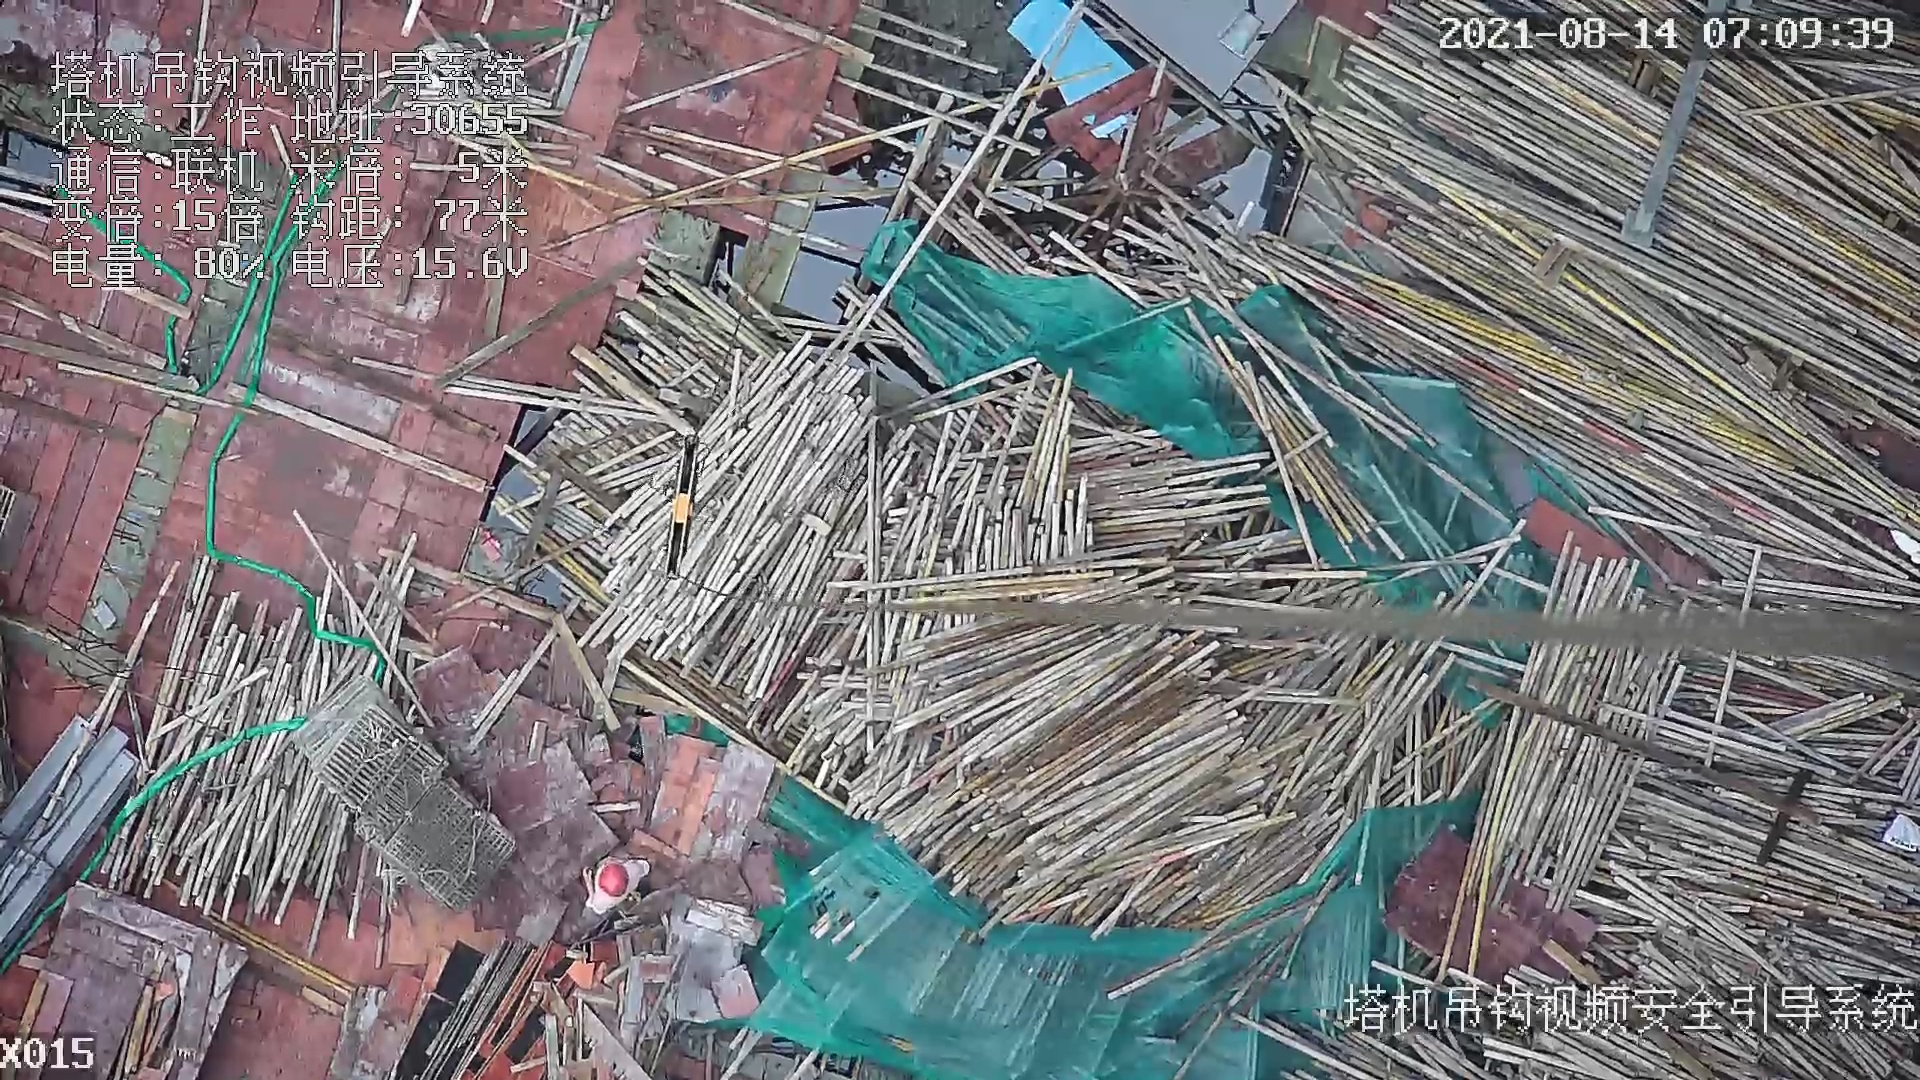helmet: (598, 862, 629, 897)
hook: (658, 428, 699, 587)
person: (577, 854, 656, 921)
